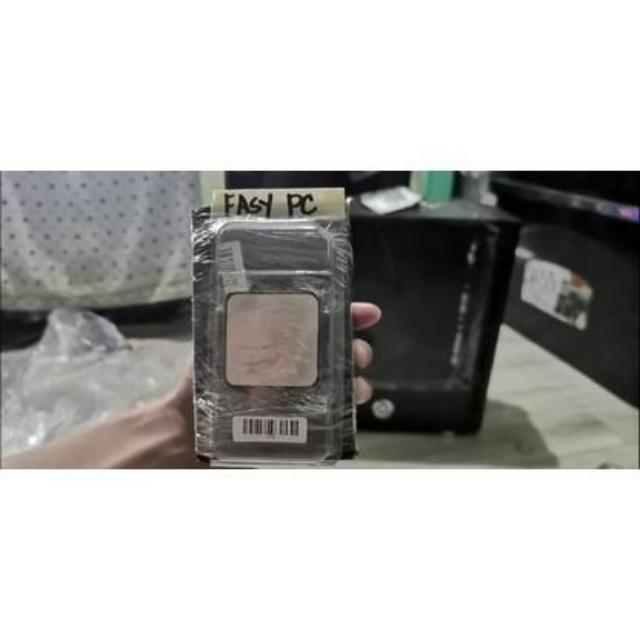CPU: (224, 290, 321, 388)
